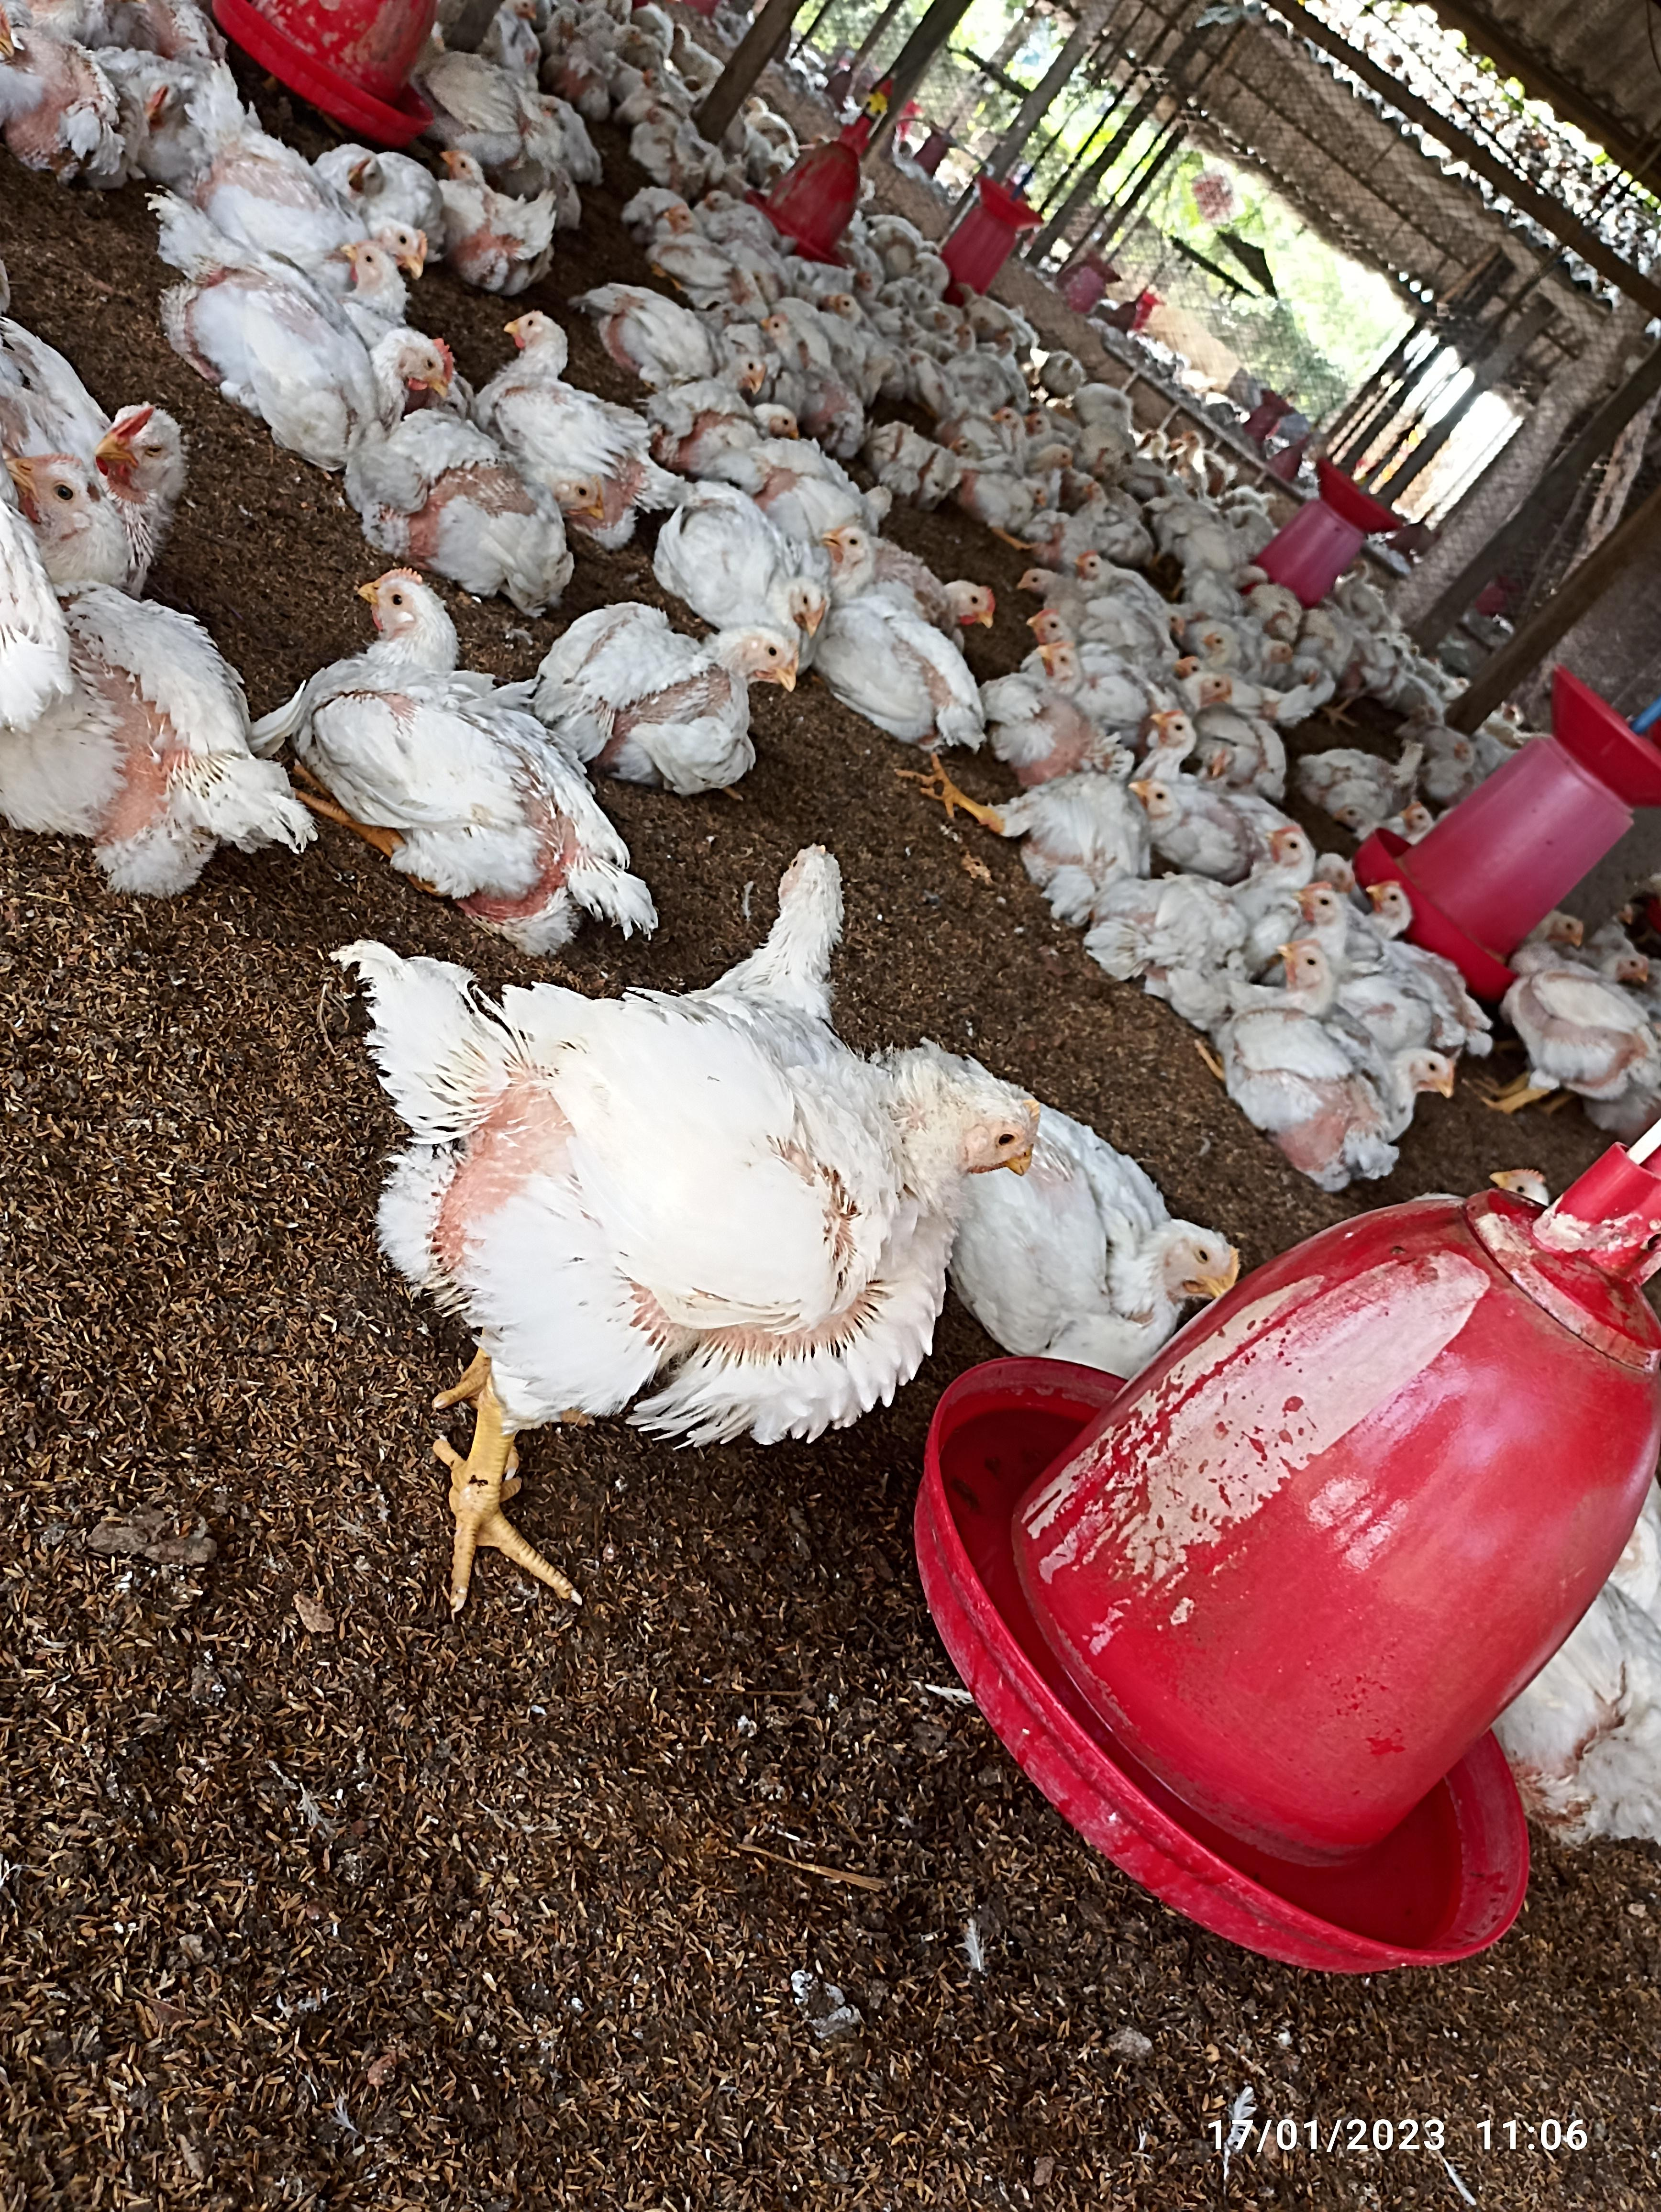Pollos: (443, 1022, 1042, 1413), (279, 563, 646, 940), (23, 455, 272, 870), (974, 1186, 1244, 1366), (187, 256, 450, 427), (1223, 944, 1436, 1150), (818, 520, 974, 745), (548, 630, 811, 762), (489, 307, 649, 492), (689, 495, 818, 625), (1010, 640, 1122, 785), (1253, 827, 1338, 918)
